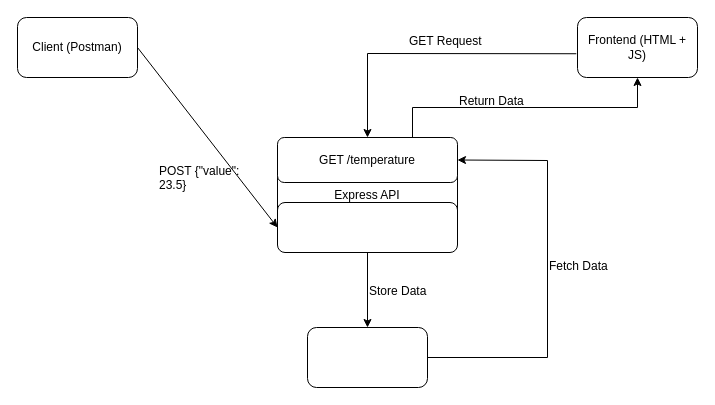
Some shapes in this 715 by 405 pixel diagram are drawn without their labels. The shapes that lost their labels are listed below. From the top down, each one's centre as x and y in pixels, then its label:
At [367,227]: "POST /temperature".
At [367,357]: "In-Memory Storage (Array)".
